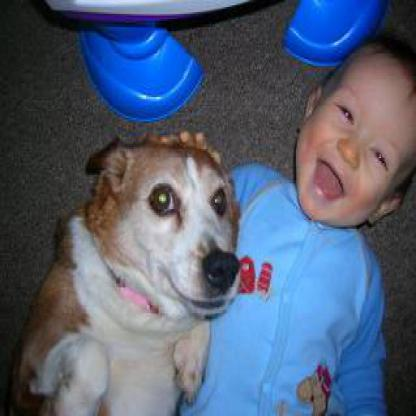dog: (54, 108, 246, 392)
